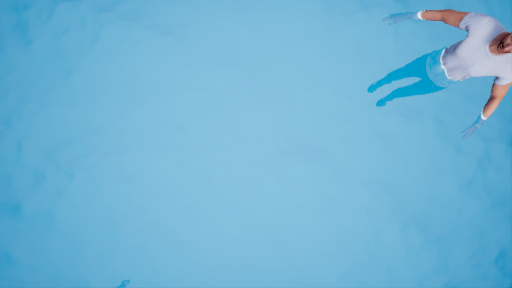person: (367, 3, 512, 128)
